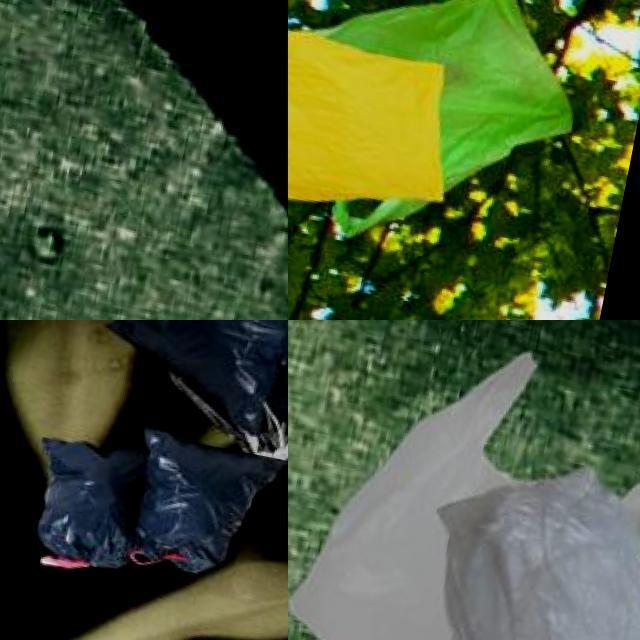waste: (288, 320, 640, 640), (307, 0, 610, 275), (388, 442, 640, 640), (288, 10, 474, 244), (78, 320, 288, 478), (124, 423, 285, 585), (101, 320, 288, 433), (24, 432, 157, 578)
